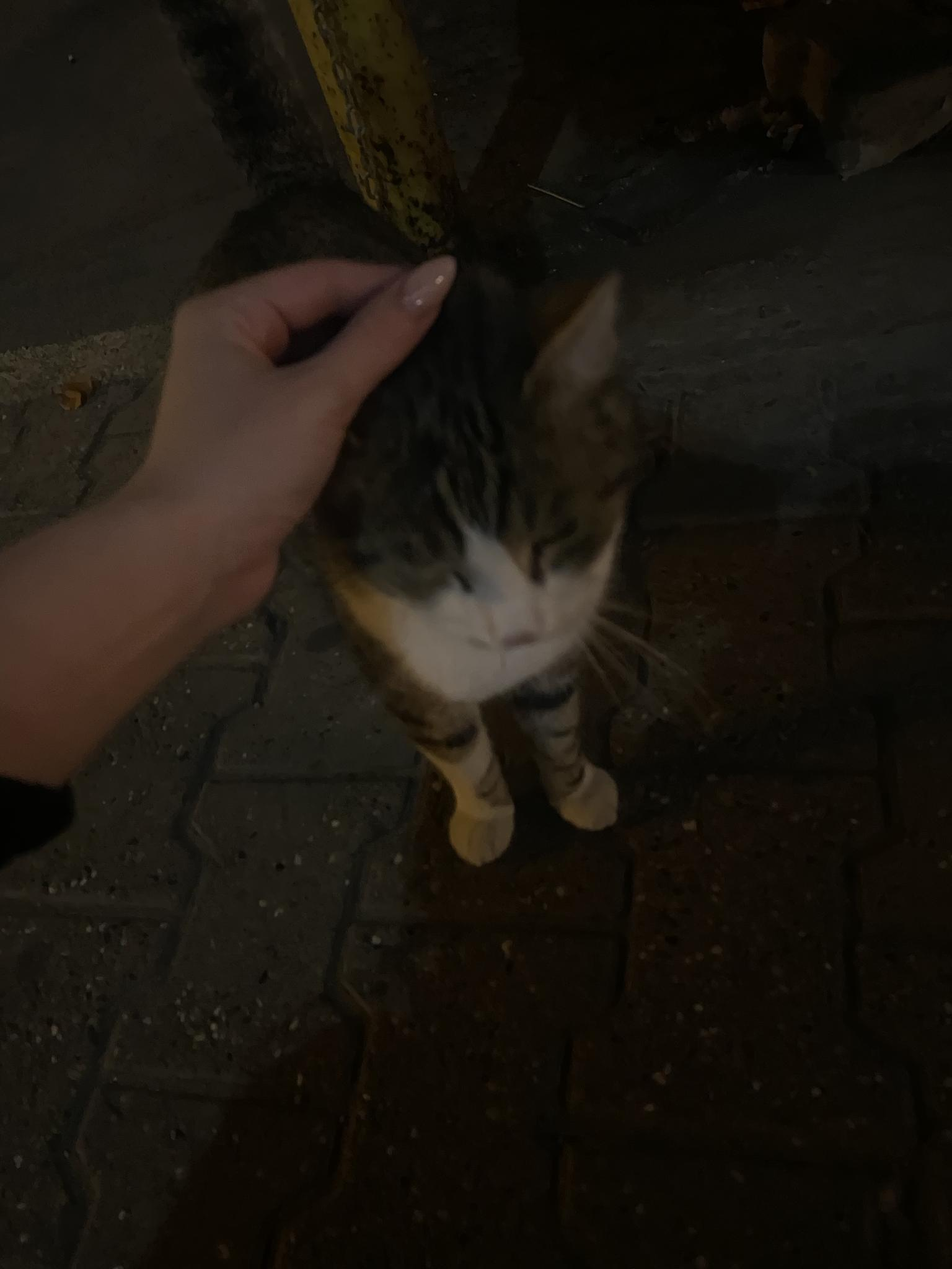macka: (165, 172, 638, 866)
